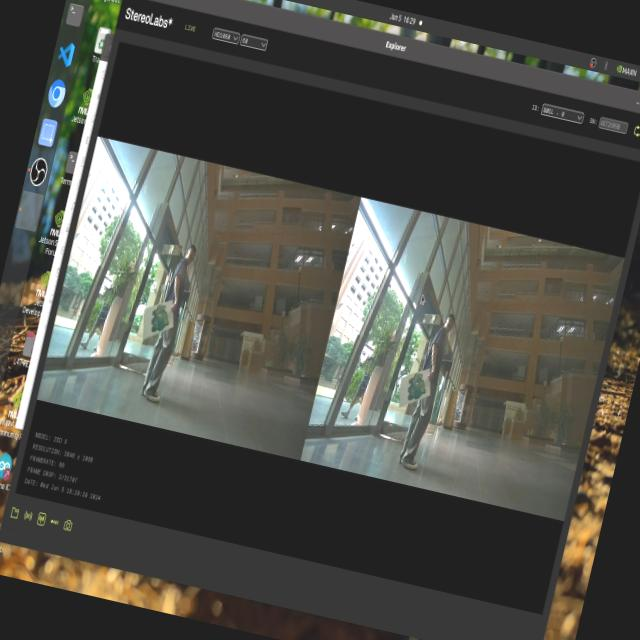green: (136, 292, 176, 337), (401, 368, 430, 408)
